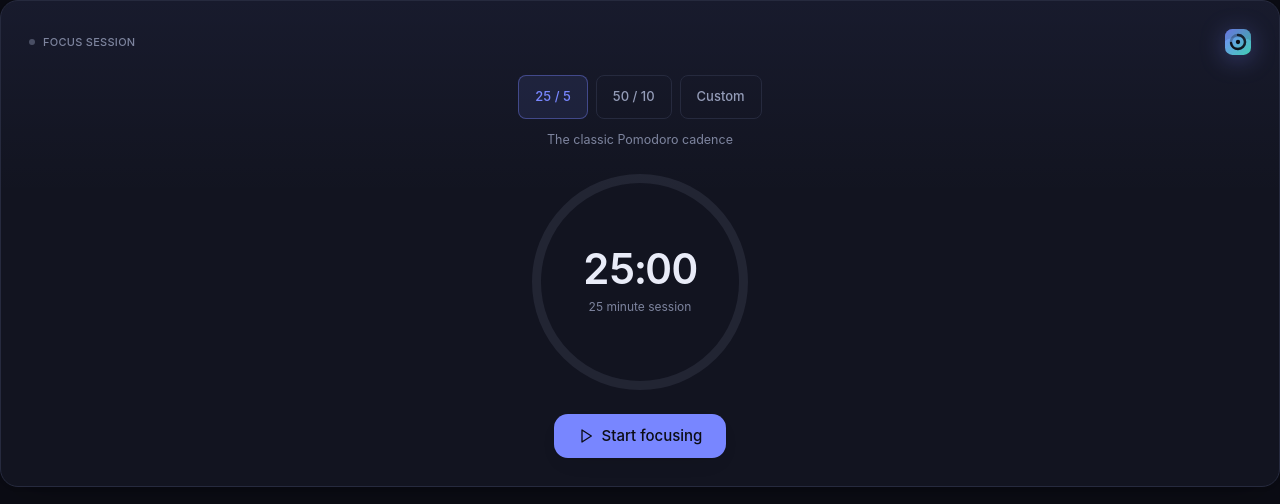
Test: QuickTimer › starts the length the chosen preset advertises
The image size is (1280, 504).
Click the button "50 / 10". click: [634, 97]
box: x1=596 y1=75 x2=672 y2=119
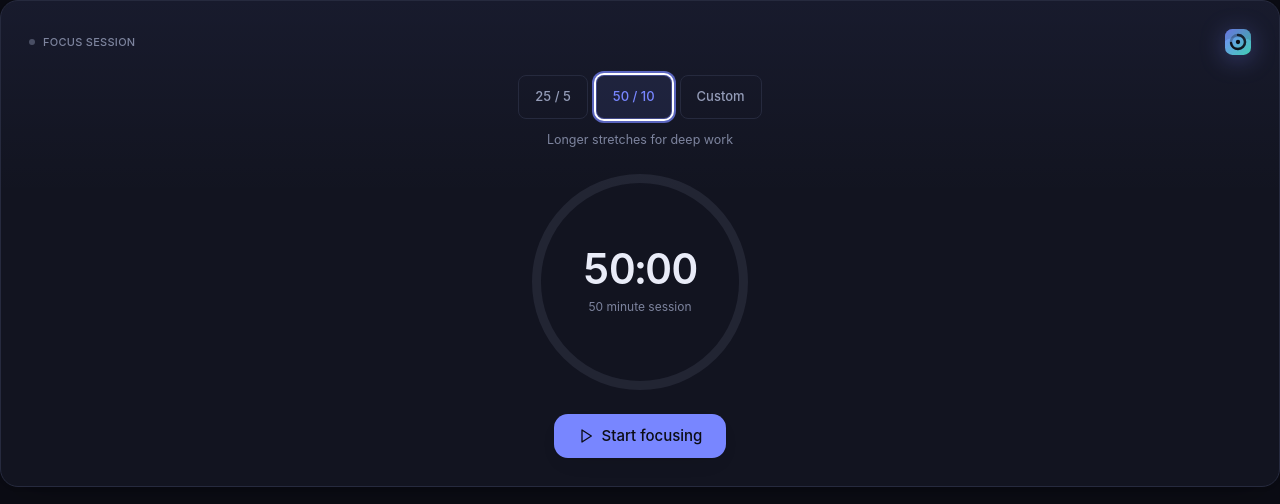
Expected: the text "50:00" is shown, x1=583 y1=248 x2=697 y2=290
